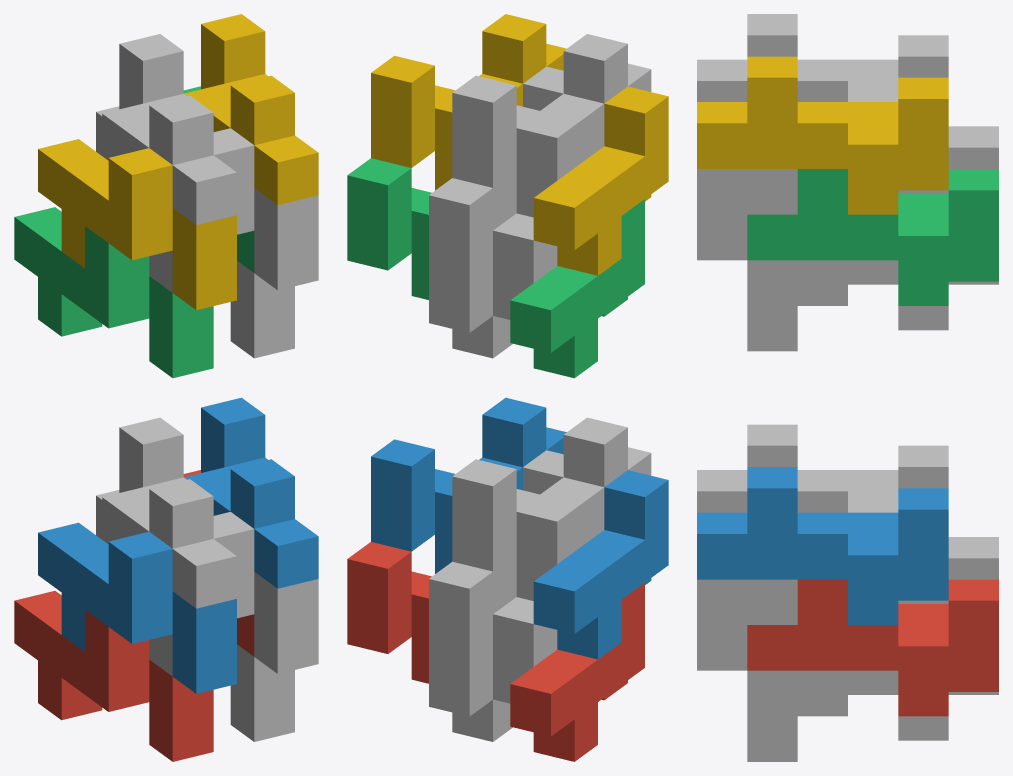
File: tiling.obj
3 renders of one model, left to right at view 1: azimuth 30°, elevation 25°; view 2: azimuth 150°, elevation 25°; view 3: azimuth 270°, elevation 25°, orthographic. The views are drawn at different scales.
Parts seen in each view (by area): view 1: copy_1_domain_2, copy_1_domain_4, copy_1_domain_3, copy_1_domain_1, copy_2_domain_2, copy_2_domain_4, copy_2_domain_6, copy_2_domain_8, copy_1_domain_8, copy_1_domain_6, copy_1_domain_7, copy_1_domain_5 (+4 smaller); view 2: copy_2_domain_4, copy_2_domain_2, copy_1_domain_4, copy_1_domain_2, copy_2_domain_6, copy_2_domain_8, copy_1_domain_3, copy_1_domain_1, copy_2_domain_1, copy_2_domain_3, copy_2_domain_5, copy_2_domain_7 (+4 smaller); view 3: copy_2_domain_6, copy_2_domain_8, copy_2_domain_7, copy_2_domain_5, copy_2_domain_2, copy_2_domain_4, copy_1_domain_7, copy_1_domain_5, copy_1_domain_6, copy_1_domain_8, copy_2_domain_1, copy_2_domain_3.
Part boxes in pixels (left/top/right/bottom): copy_1_domain_2: left=38, top=522, right=236, bottom=693; copy_1_domain_4: left=38, top=139, right=236, bottom=310; copy_1_domain_3: left=14, top=207, right=213, bottom=378; copy_1_domain_1: left=14, top=591, right=213, bottom=761; copy_2_domain_2: left=102, top=417, right=236, bottom=608; copy_2_domain_4: left=102, top=34, right=236, bottom=224; copy_2_domain_6: left=184, top=397, right=318, bottom=588; copy_2_domain_8: left=184, top=14, right=318, bottom=204; copy_1_domain_8: left=213, top=128, right=318, bottom=290; copy_1_domain_6: left=213, top=512, right=318, bottom=673; copy_1_domain_7: left=230, top=261, right=294, bottom=358; copy_1_domain_5: left=230, top=644, right=294, bottom=741; copy_2_domain_4: left=452, top=34, right=651, bottom=217; copy_2_domain_2: left=452, top=417, right=651, bottom=600; copy_1_domain_4: left=533, top=86, right=668, bottom=275; copy_1_domain_2: left=533, top=470, right=668, bottom=659; copy_2_domain_6: left=371, top=397, right=566, bottom=573; copy_2_domain_8: left=371, top=14, right=566, bottom=190; copy_1_domain_3: left=510, top=199, right=644, bottom=378; copy_1_domain_1: left=510, top=583, right=644, bottom=761; copy_2_domain_1: left=429, top=561, right=557, bottom=703; copy_2_domain_3: left=429, top=178, right=557, bottom=319; copy_2_domain_5: left=347, top=542, right=431, bottom=683; copy_2_domain_7: left=347, top=158, right=431, bottom=299; copy_2_domain_6: left=697, top=467, right=948, bottom=624; copy_2_domain_8: left=697, top=56, right=948, bottom=214; copy_2_domain_7: left=747, top=169, right=998, bottom=305; copy_2_domain_5: left=747, top=579, right=998, bottom=716; copy_2_domain_2: left=697, top=424, right=948, bottom=512; copy_2_domain_4: left=697, top=14, right=948, bottom=101; copy_1_domain_7: left=747, top=260, right=998, bottom=351; copy_1_domain_5: left=747, top=670, right=998, bottom=761; copy_1_domain_6: left=697, top=579, right=948, bottom=670; copy_1_domain_8: left=697, top=169, right=948, bottom=260; copy_2_domain_1: left=948, top=537, right=998, bottom=579; copy_2_domain_3: left=948, top=126, right=998, bottom=168.
Bounding box in the file's own units: 5 × 15 × 6.
